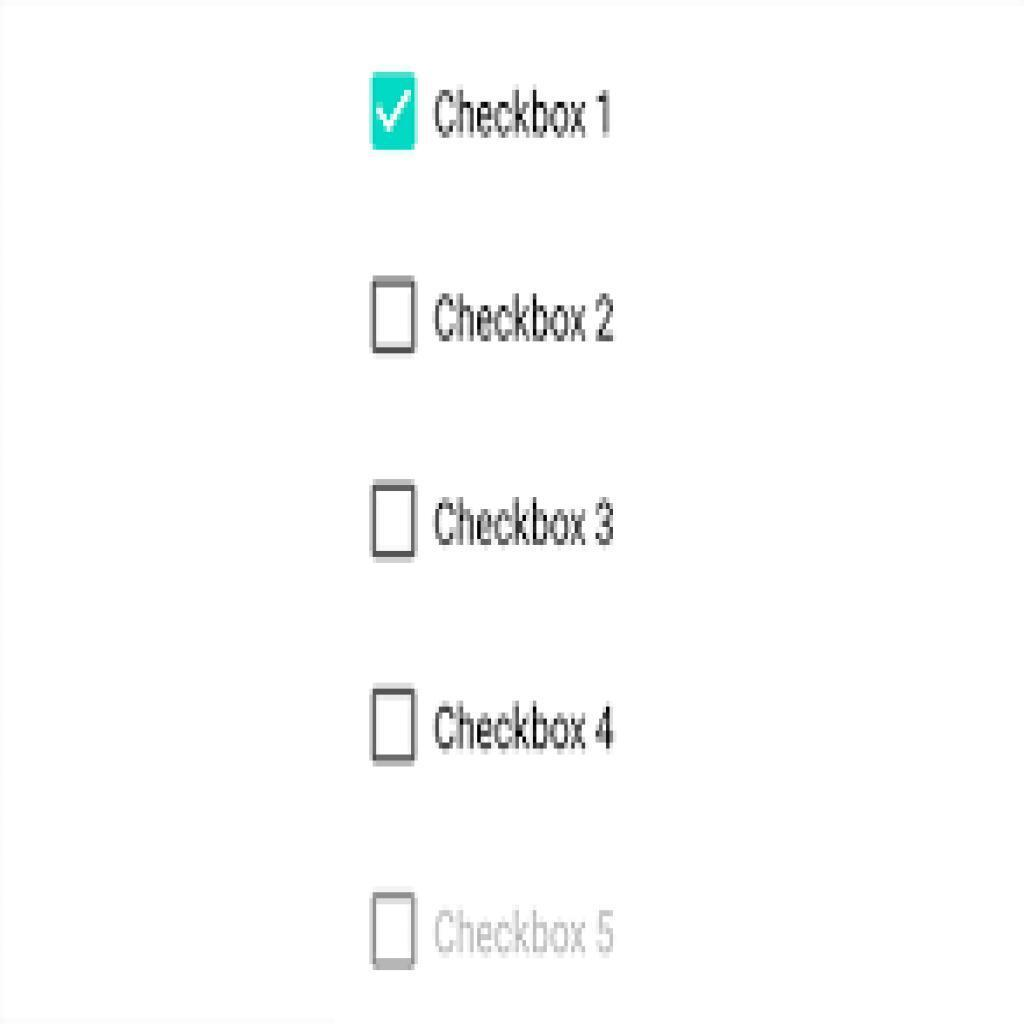checkbox: (370, 683, 418, 767), (371, 477, 416, 561), (371, 277, 419, 355), (371, 893, 420, 969), (371, 75, 419, 150)
